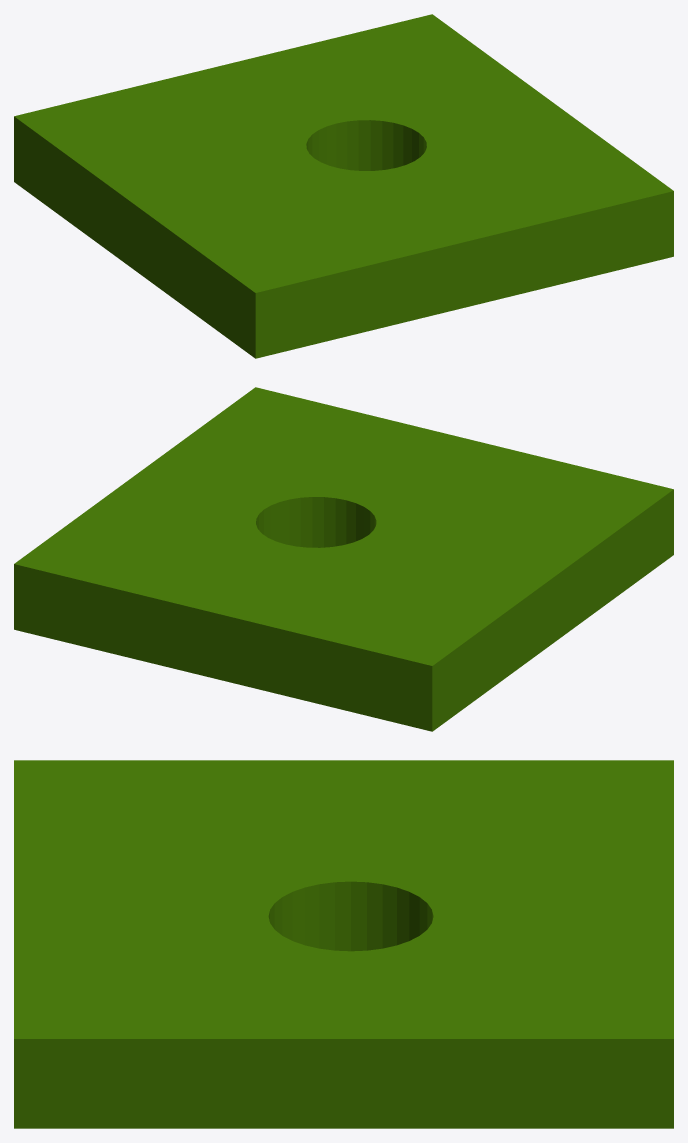
File: block_w_hole.fbx
The picture shows the model from 3 angles, top to bottom: view 1: azimuth 30°, elevation 25°; view 2: azimuth 150°, elevation 25°; view 3: azimuth 270°, elevation 25°; orthographic projection. The views are drawn at different scales.
Parts seen in each view (by area): view 1: Cube.003; view 2: Cube.003; view 3: Cube.003.
Boxes of the visible parts, bbox=[...] form: Cube.003: bbox=[14, 14, 673, 358]; Cube.003: bbox=[14, 387, 673, 731]; Cube.003: bbox=[14, 760, 673, 1128].
Size of the model in its own units: 2000 by 300 by 2000.
